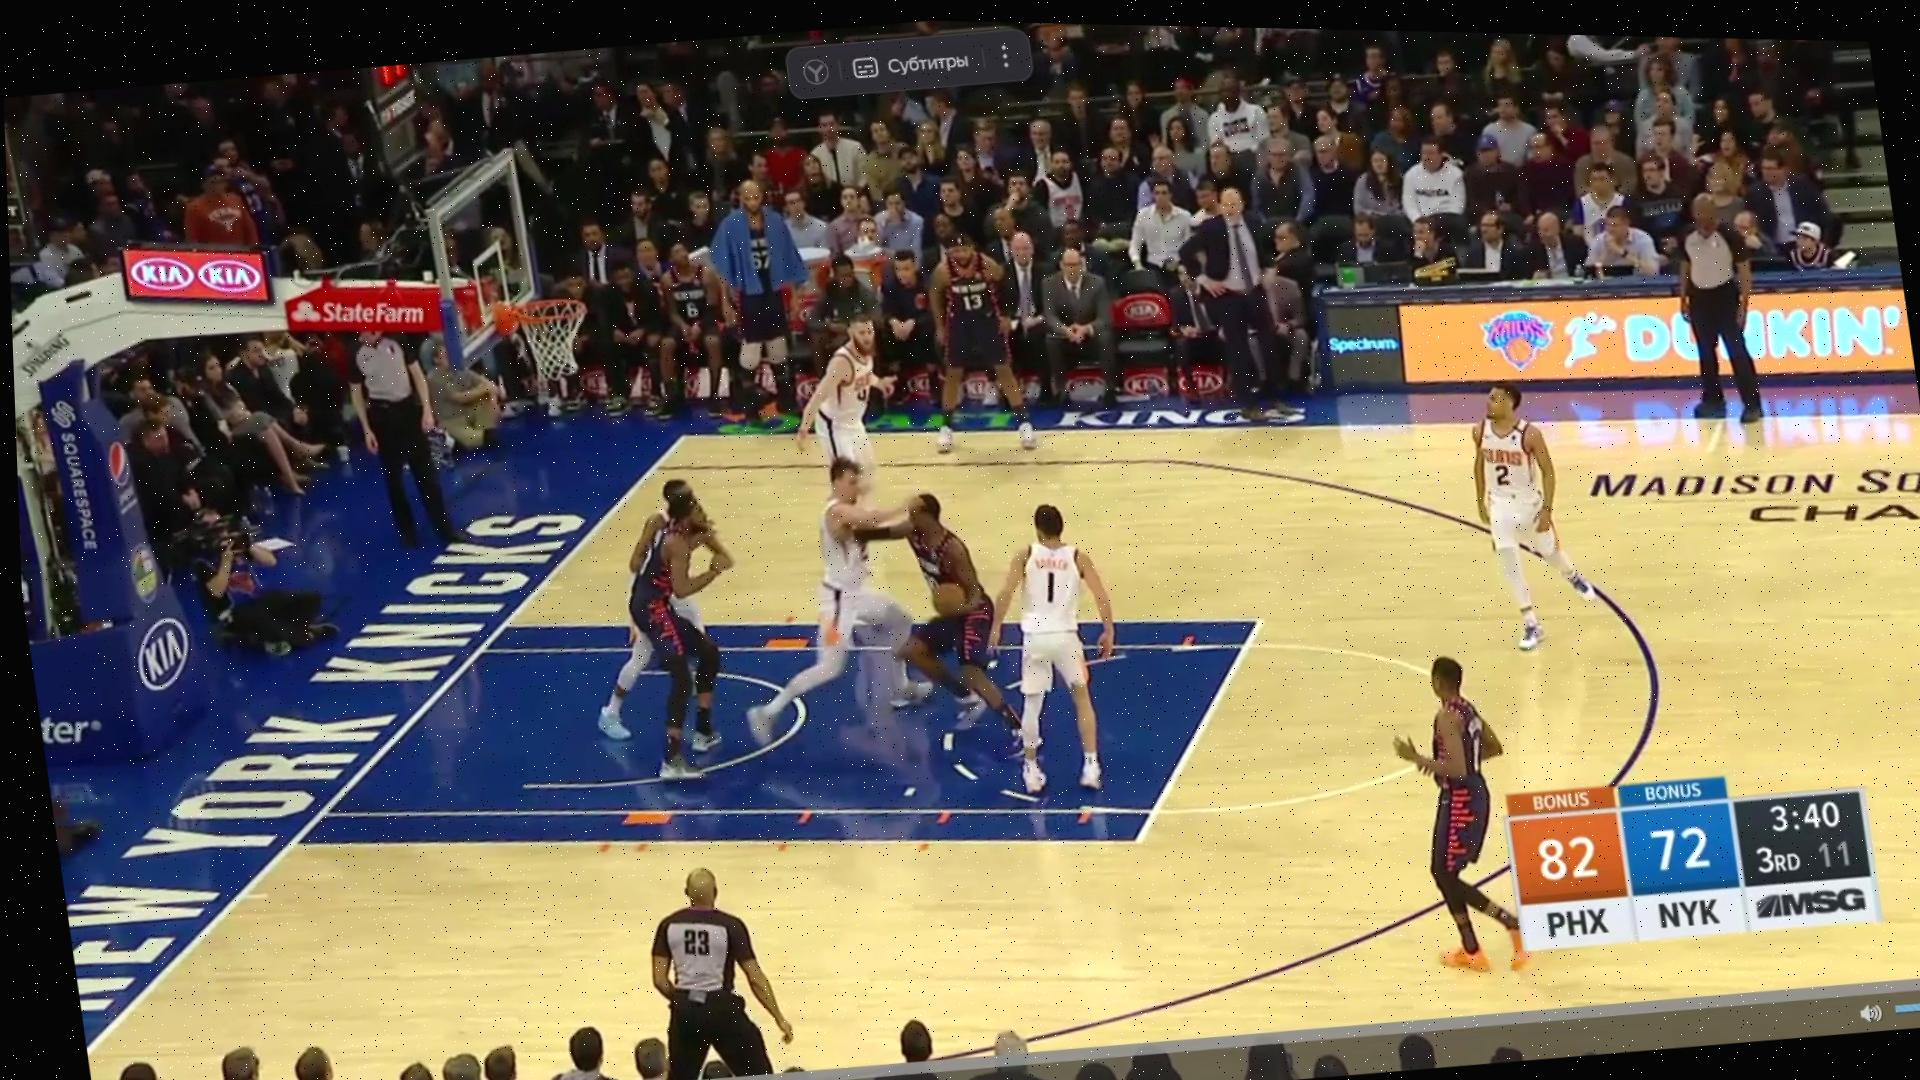foul: (767, 443, 1029, 781)
